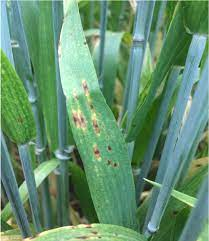Bercak Coklat: (103, 139, 118, 155), (90, 119, 103, 133), (81, 78, 92, 94), (109, 158, 124, 169), (91, 144, 104, 156), (78, 112, 88, 125), (70, 113, 80, 125)
